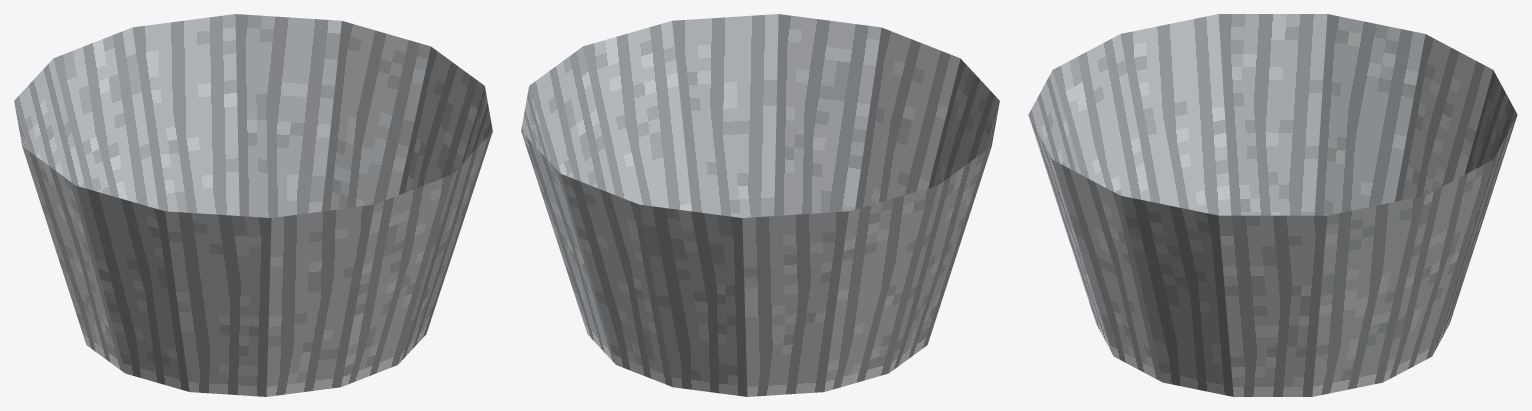
Rendered from cup_foil.glb.
The picture shows the model from 3 angles, left to right: view 1: azimuth 30°, elevation 25°; view 2: azimuth 150°, elevation 25°; view 3: azimuth 270°, elevation 25°; orthographic projection.
Parts seen in each view (by area): view 1: block_wall; view 2: block_wall; view 3: block_wall.
Boxes of the visible parts, x1,y1,x2,y2 form: block_wall: [14, 14, 492, 396]; block_wall: [521, 14, 999, 396]; block_wall: [1028, 14, 1517, 396].
Bounding box in the file's own units: 0.0702 × 0.034 × 0.072.
2 materials, 2 textured.
